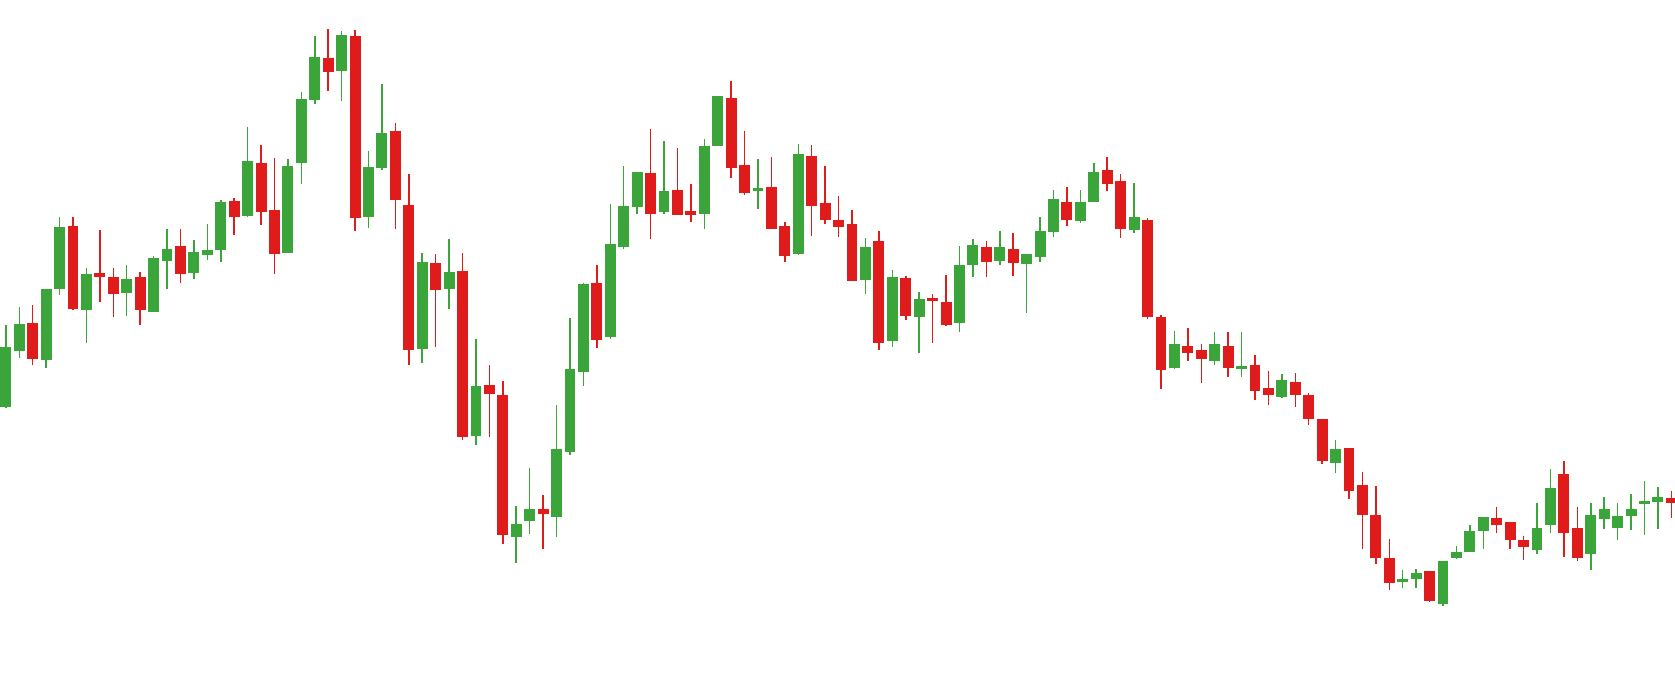buy: (215, 177, 293, 272)
sell: (642, 72, 740, 207)
